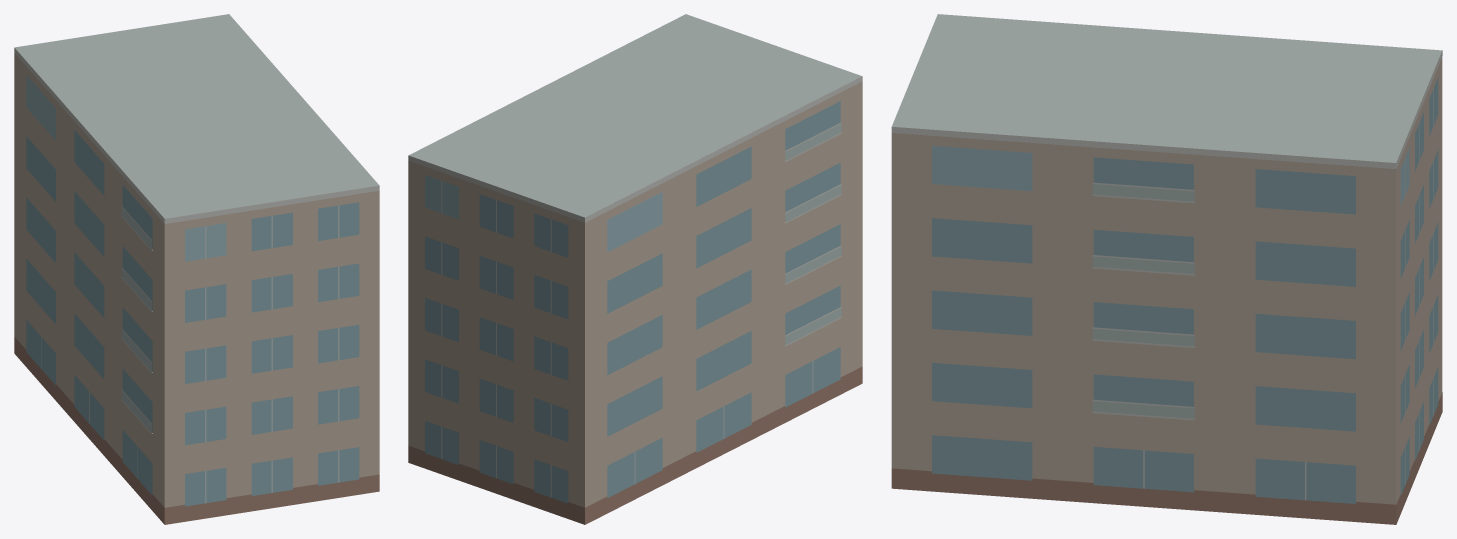
Rendered from survey-upis-32926734.glb.
The picture shows the model from 3 angles, left to right: view 1: azimuth 30°, elevation 25°; view 2: azimuth 150°, elevation 25°; view 3: azimuth 270°, elevation 25°; orthographic projection. The views are drawn at different scales.
Parts seen in each view (by area): view 1: survey-upis-32926734.tmp; view 2: survey-upis-32926734.tmp; view 3: survey-upis-32926734.tmp.
Boxes of the visible parts, left/top/right/bottom form: survey-upis-32926734.tmp: left=14, top=14, right=379, bottom=524; survey-upis-32926734.tmp: left=408, top=14, right=862, bottom=524; survey-upis-32926734.tmp: left=891, top=14, right=1442, bottom=524.
Size of the model in its own units: 12.82 by 14.5 by 20.01.
